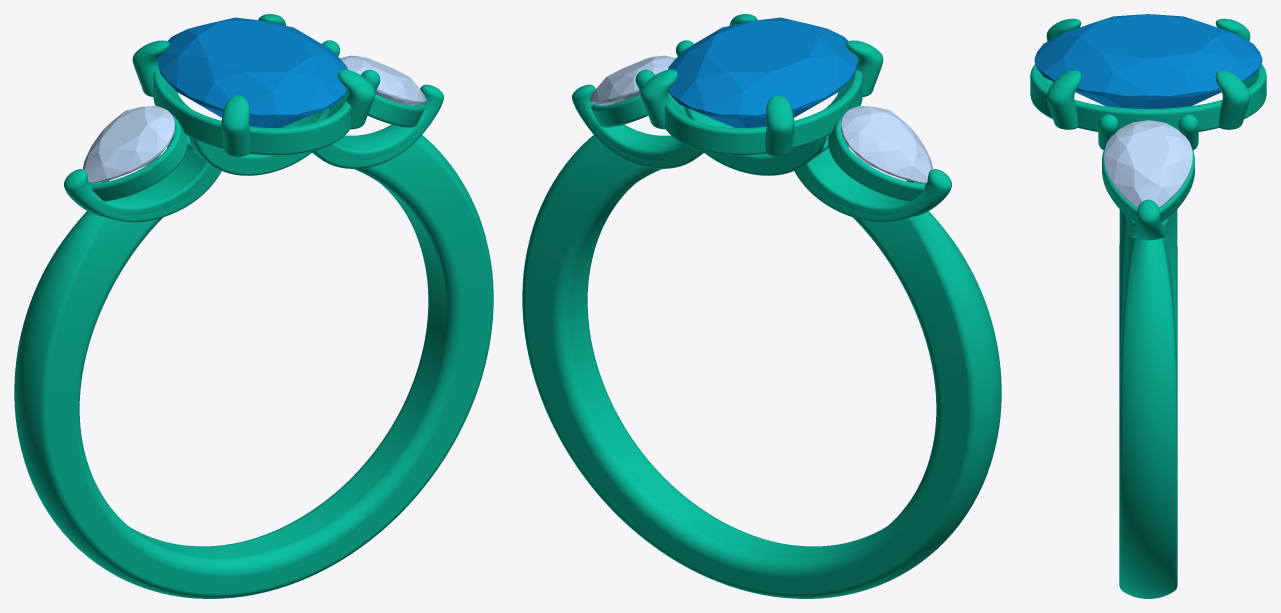
The picture shows the model from 3 angles, left to right: view 1: azimuth 30°, elevation 25°; view 2: azimuth 150°, elevation 25°; view 3: azimuth 270°, elevation 25°; orthographic projection.
Parts seen in each view (by area): view 1: VR1034(front).3dm, Diamond_Oval, Bezel (×3), Diamond_Pear (×2), Head Prong (×3); view 2: VR1034(front).3dm, Diamond_Oval, Bezel (×3), Diamond_Pear (×2), Head Prong (×3); view 3: VR1034(front).3dm, Diamond_Oval, Diamond_Pear, Bezel (×2), Head Prong (×6).
Part boxes in pixels (x1,y1,x2,y2): VR1034(front).3dm: (14, 84, 493, 598); Diamond_Oval: (158, 17, 347, 127); Bezel (×3): (90, 70, 424, 201); Diamond_Pear (×2): (83, 55, 426, 183); Head Prong (×3): (132, 40, 375, 156); VR1034(front).3dm: (522, 84, 1001, 598); Diamond_Oval: (668, 17, 857, 127); Bezel (×3): (591, 70, 925, 201); Diamond_Pear (×2): (589, 55, 932, 183); Head Prong (×3): (640, 40, 883, 156); VR1034(front).3dm: (1119, 199, 1177, 598); Diamond_Oval: (1034, 14, 1262, 108); Diamond_Pear: (1104, 120, 1192, 207); Bezel (×2): (1030, 64, 1266, 222); Head Prong (×6): (1046, 18, 1250, 150).
Size of the model in its own units: 2.57 by 2.85 by 1.14.
